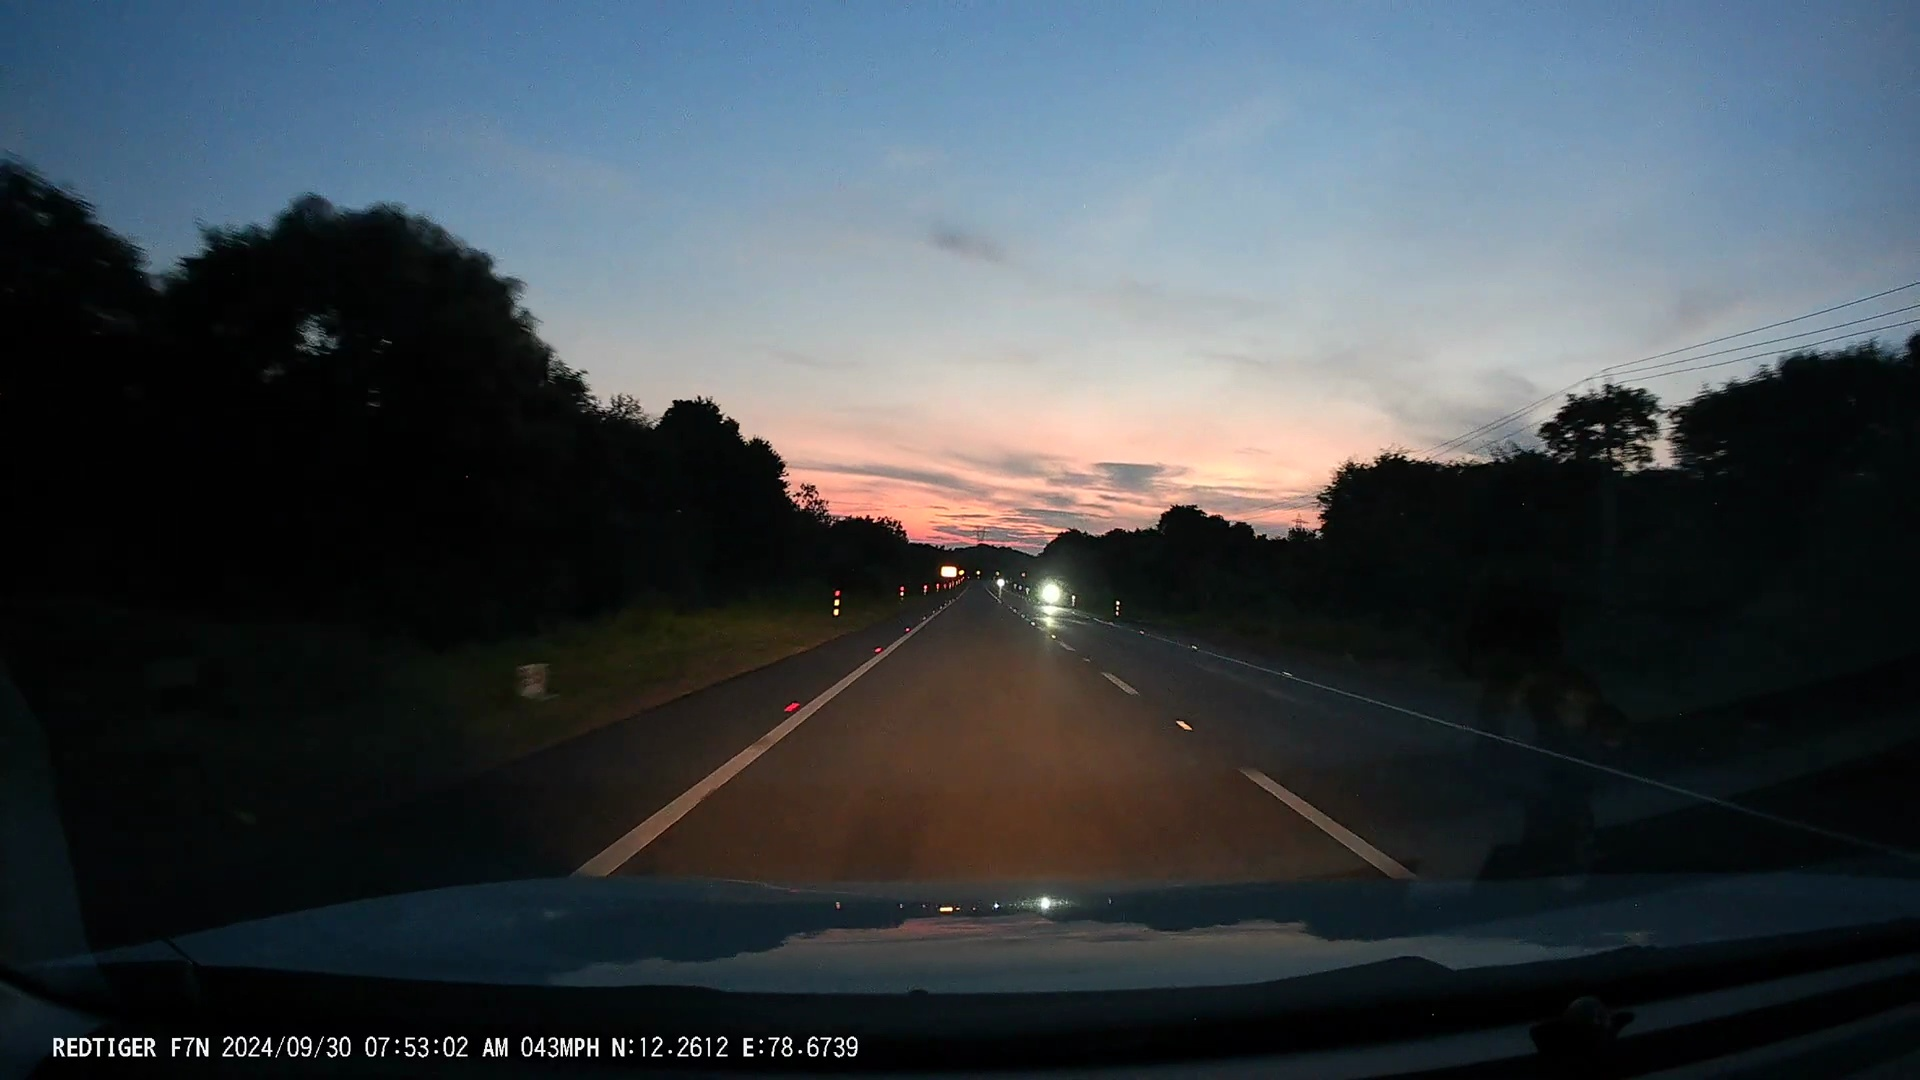headlight: (1044, 583, 1059, 604), (997, 579, 1005, 589)
two wheeler: (1044, 571, 1058, 615), (993, 574, 1007, 599)
